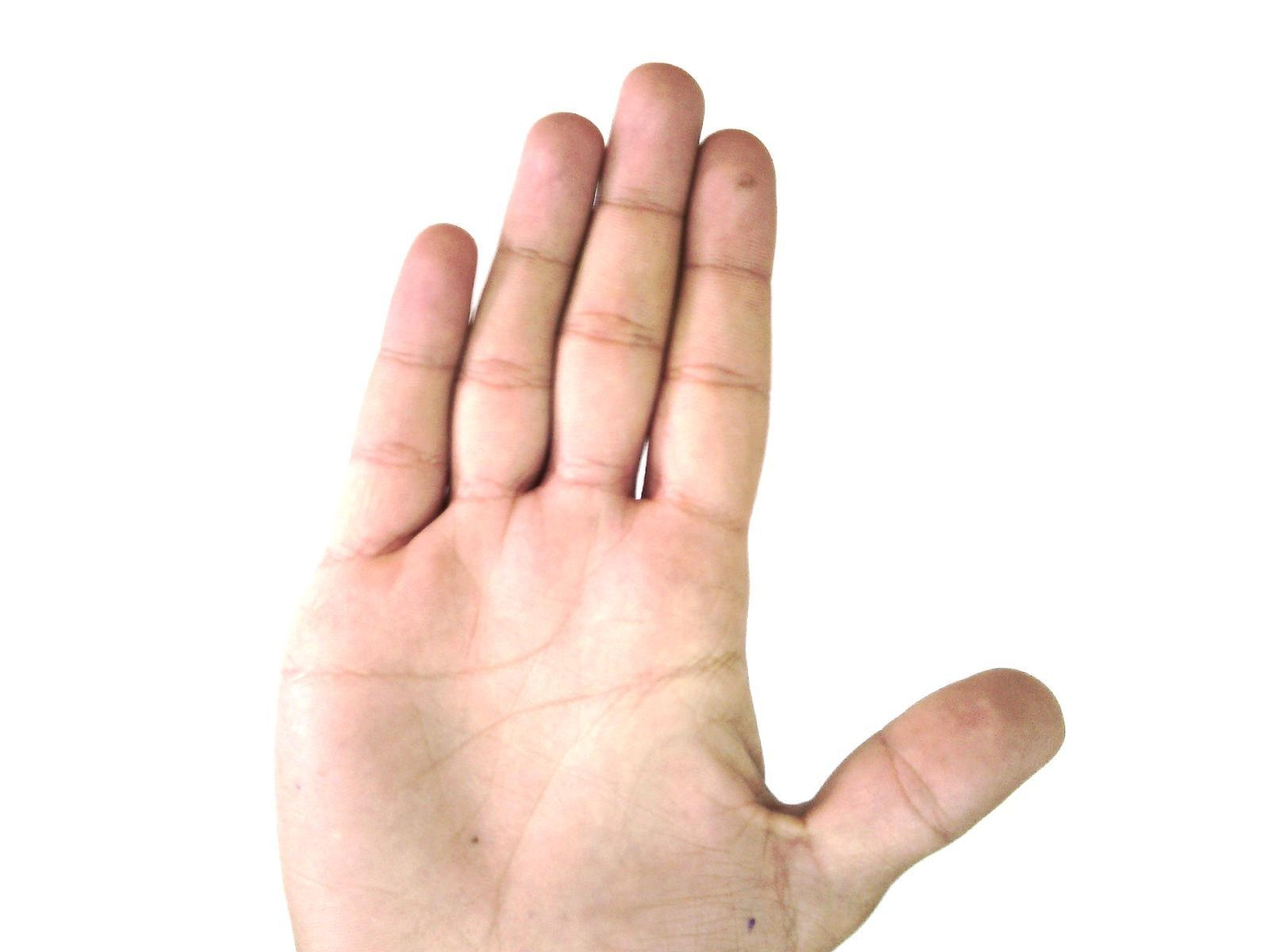open_palm: (270, 60, 1069, 951)
